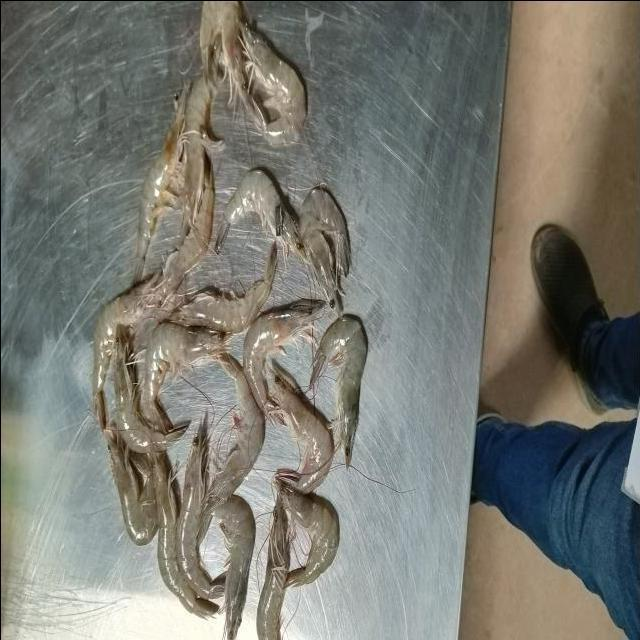shrimp: (132, 84, 190, 284), (154, 454, 219, 618), (141, 321, 230, 434), (92, 273, 170, 397), (242, 299, 324, 416), (170, 244, 276, 332), (208, 352, 265, 512), (310, 315, 368, 467), (115, 332, 188, 452), (215, 169, 308, 261), (176, 430, 225, 598), (270, 366, 334, 492), (241, 22, 306, 146), (161, 157, 215, 297), (300, 186, 350, 315), (104, 428, 159, 545), (279, 481, 339, 585), (214, 494, 255, 640), (182, 76, 220, 233), (200, 0, 251, 107), (256, 494, 290, 640)
